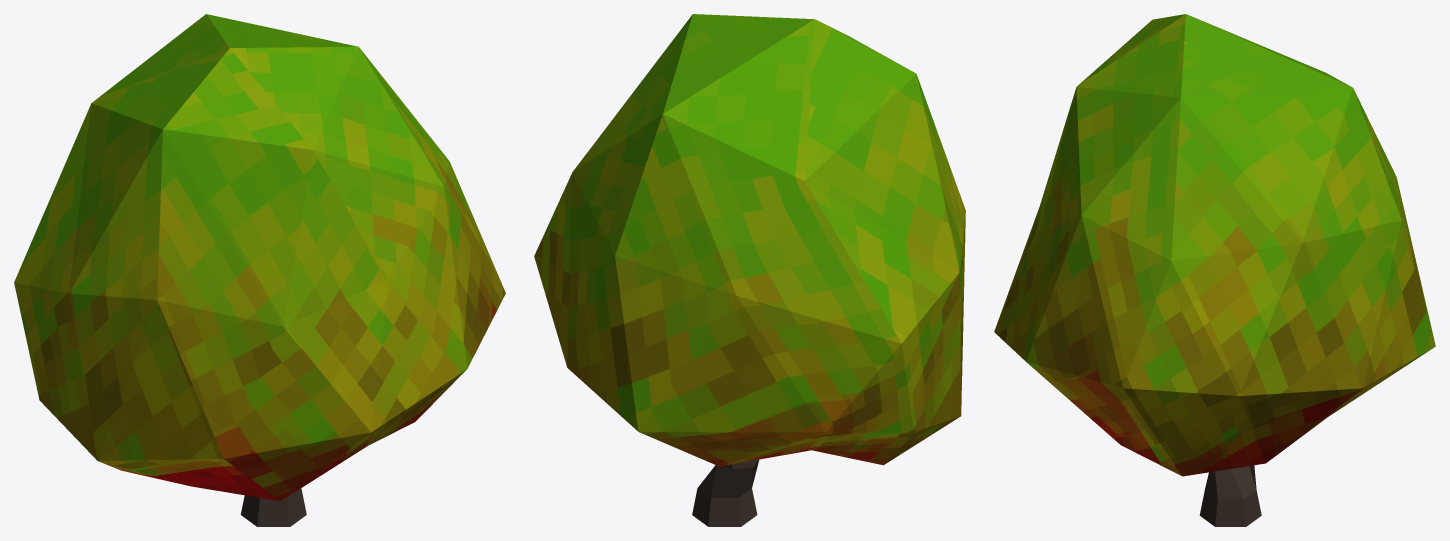
Rendered from treeklongree.glb.
The picture shows the model from 3 angles, left to right: view 1: azimuth 30°, elevation 25°; view 2: azimuth 150°, elevation 25°; view 3: azimuth 270°, elevation 25°; orthographic projection. The views are drawn at different scales.
Visible parts, largest first — view 1: Icosphere, Cylinder; view 2: Icosphere, Cylinder; view 3: Icosphere, Cylinder.
Part boxes in pixels (x1=…): Icosphere: x1=14, y1=14, x2=505, y2=500; Cylinder: x1=240, y1=488, x2=306, y2=526; Icosphere: x1=534, y1=14, x2=965, y2=466; Cylinder: x1=692, y1=459, x2=759, y2=526; Icosphere: x1=994, y1=14, x2=1435, y2=476; Cylinder: x1=1199, y1=465, x2=1261, y2=526.
Bounding box in the file's own units: 38.74 × 45.22 × 38.47.
Materials: 2 (1 with a texture image).
